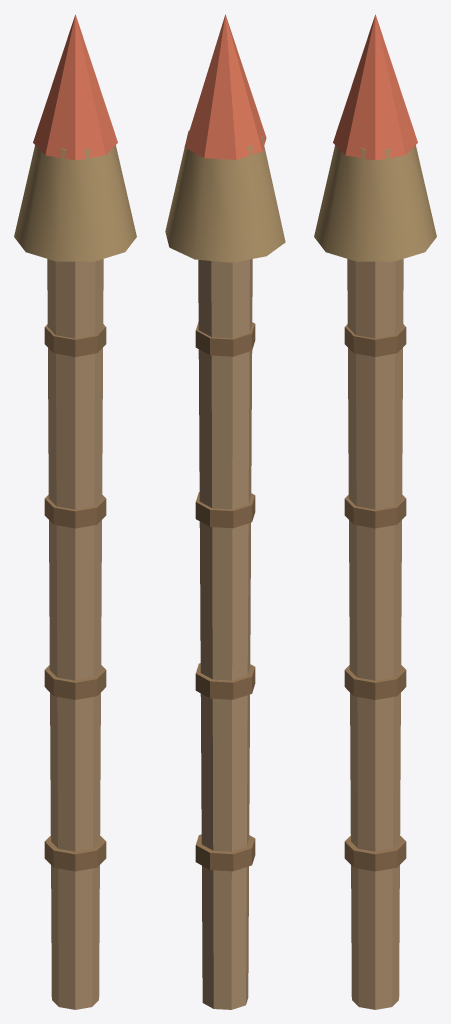
File: b_tiki.gltf
The picture shows the model from 3 angles, left to right: view 1: azimuth 90°, elevation 25°; view 2: azimuth 150°, elevation 25°; view 3: azimuth 270°, elevation 25°; orthographic projection.
Parts seen in each view (by area): view 1: b_tiki; view 2: b_tiki; view 3: b_tiki.
Part boxes in pixels (x1,y1,x2,y2): b_tiki: (14,14,136,1009); b_tiki: (165,14,285,1009); b_tiki: (314,14,436,1009).
Bounding box in the file's own units: 0.2473 × 2.3 × 0.26.
1 material, 1 textured.
